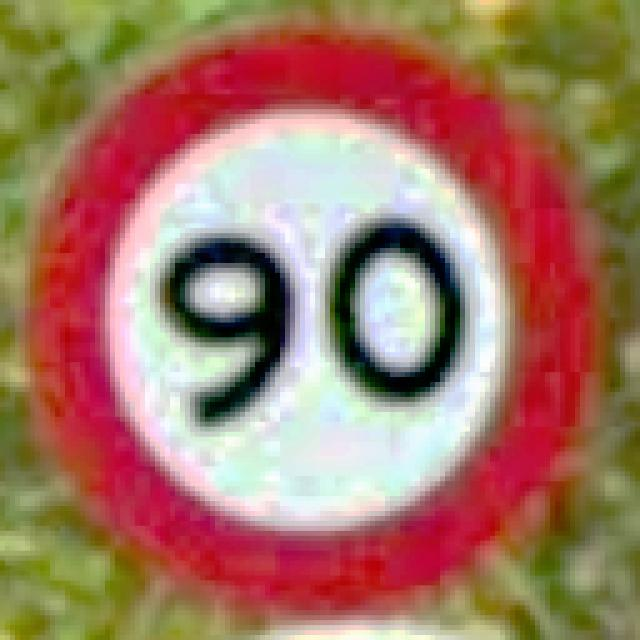max90: (20, 15, 610, 620)
